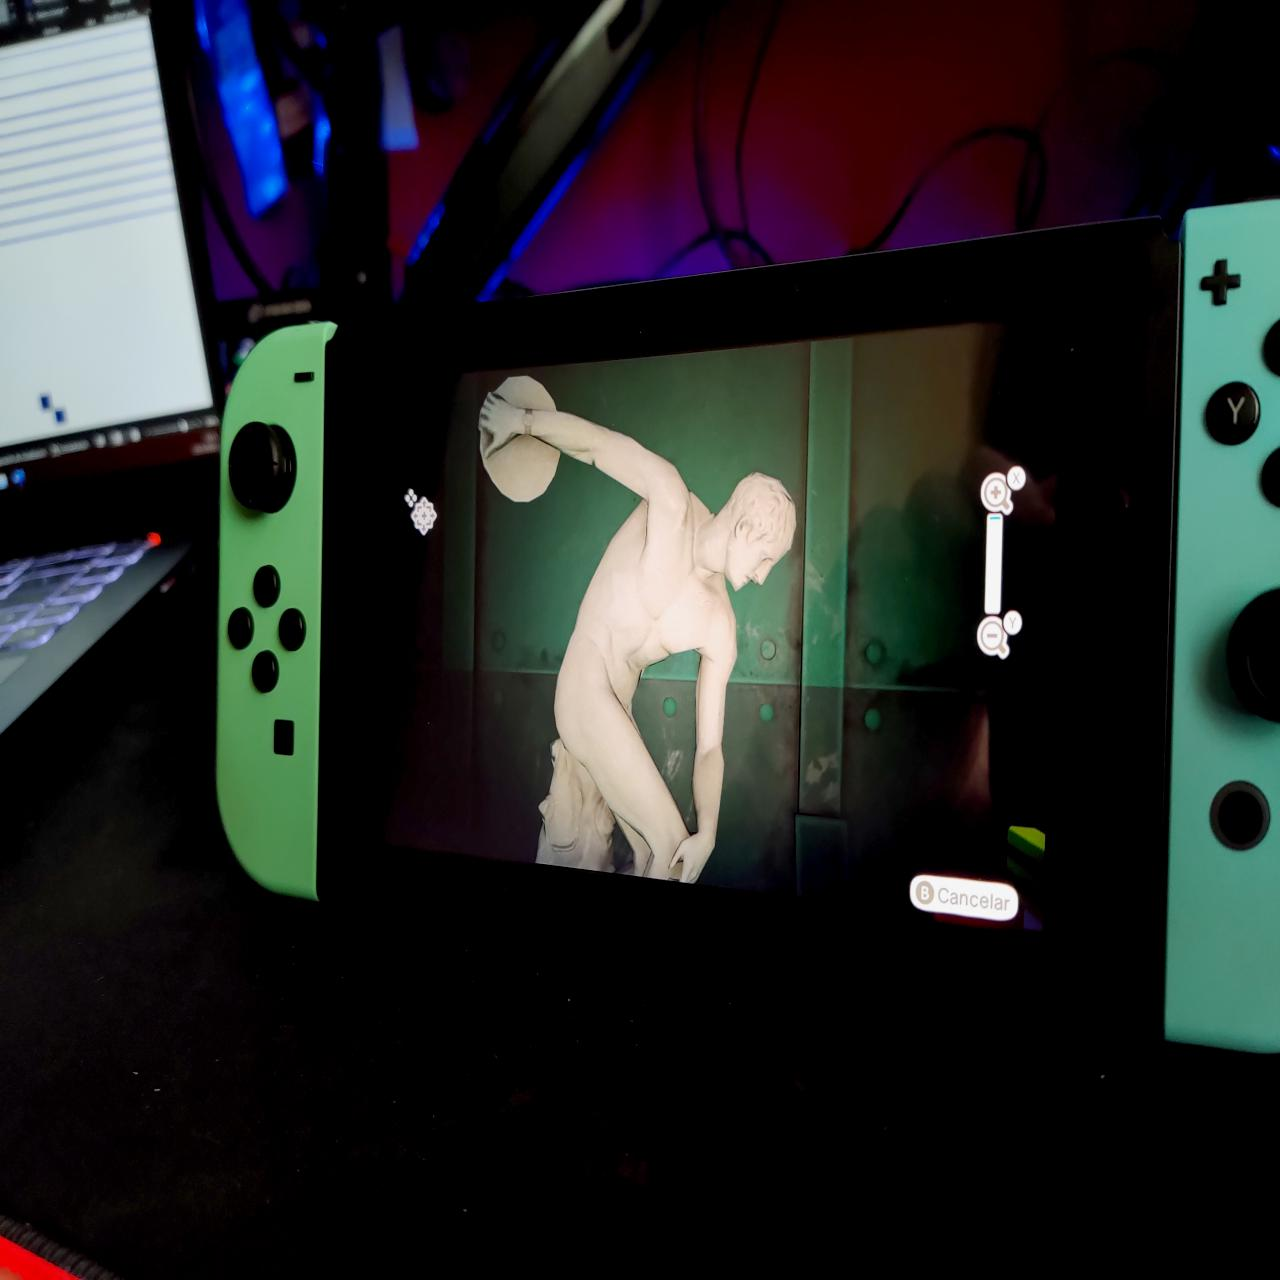DiskobolosFake: (476, 375, 798, 886)
